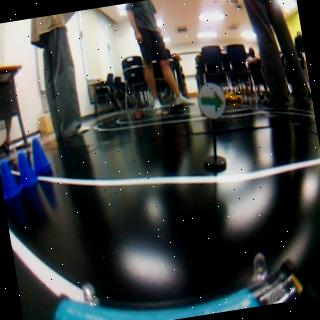right: (196, 78, 228, 122)
